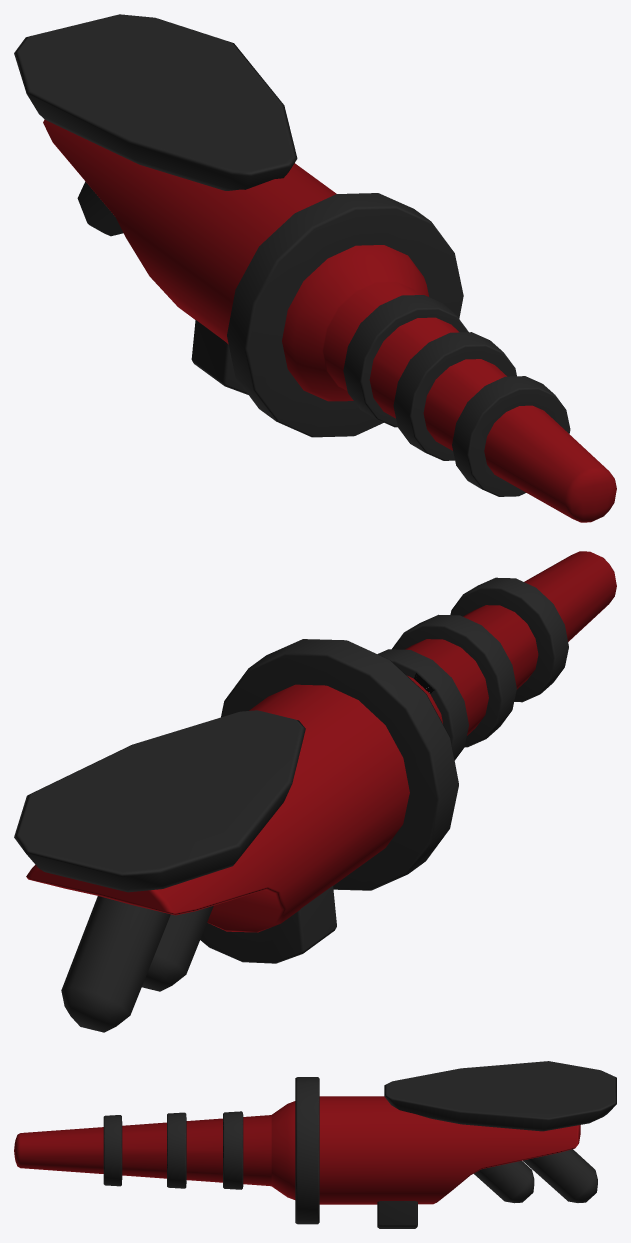
The model's file is Spaceship_main_03_Weapon_L.fbx.
3 renders of one model, top to bottom at view 1: azimuth 30°, elevation 25°; view 2: azimuth 150°, elevation 25°; view 3: azimuth 270°, elevation 25°, orthographic. The views are drawn at different scales.
Parts seen in each view (by area): view 1: Spaceship_main_03_Weapon_L; view 2: Spaceship_main_03_Weapon_L; view 3: Spaceship_main_03_Weapon_L.
Part boxes in pixels (x1,y1,x2,y2): Spaceship_main_03_Weapon_L: (14, 14, 616, 522); Spaceship_main_03_Weapon_L: (14, 551, 616, 1032); Spaceship_main_03_Weapon_L: (14, 1061, 616, 1228).
Size of the model in its own units: 84.4 by 86.87 by 339.
